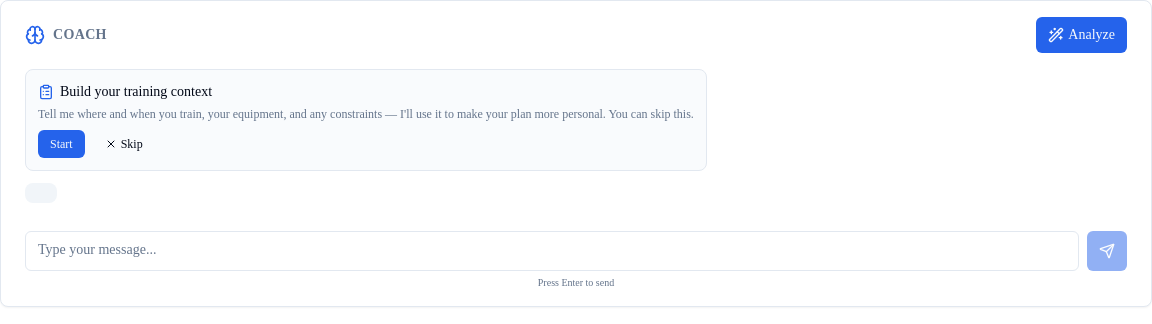
it: CoachChat — training-context offer › hides the offer card when Skip is clicked and sends no chat message
The width and height of the screenshot is (1152, 324).
Expected: the text "Build your training context" is shown, [38, 84, 212, 100]
Click the button "Skip" at (124, 144), box [93, 130, 155, 158]
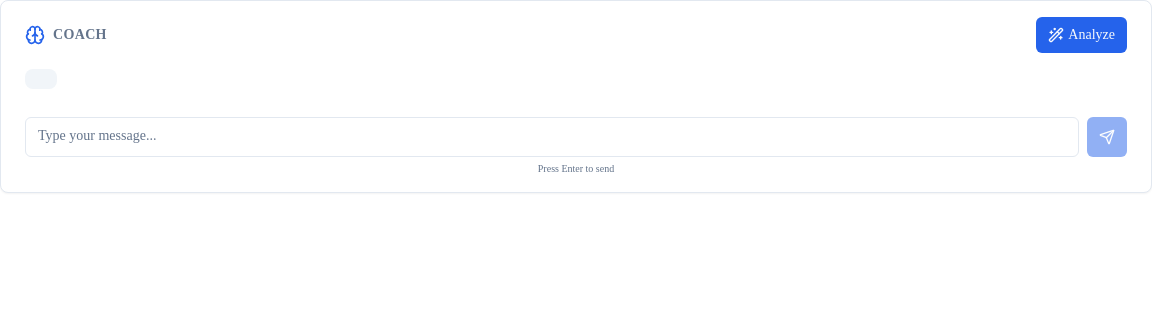
Now the text "Build your training context" is gone
